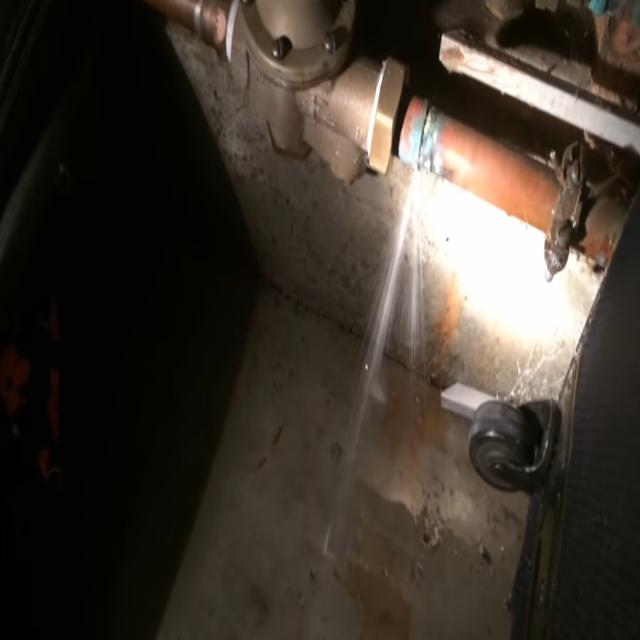leak: (338, 168, 428, 541)
